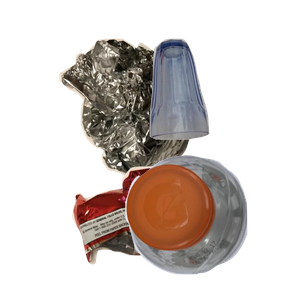glass: (147, 36, 300, 168)
metal: (57, 36, 241, 216)
plastic: (123, 152, 300, 300)
trash: (70, 162, 257, 300)
